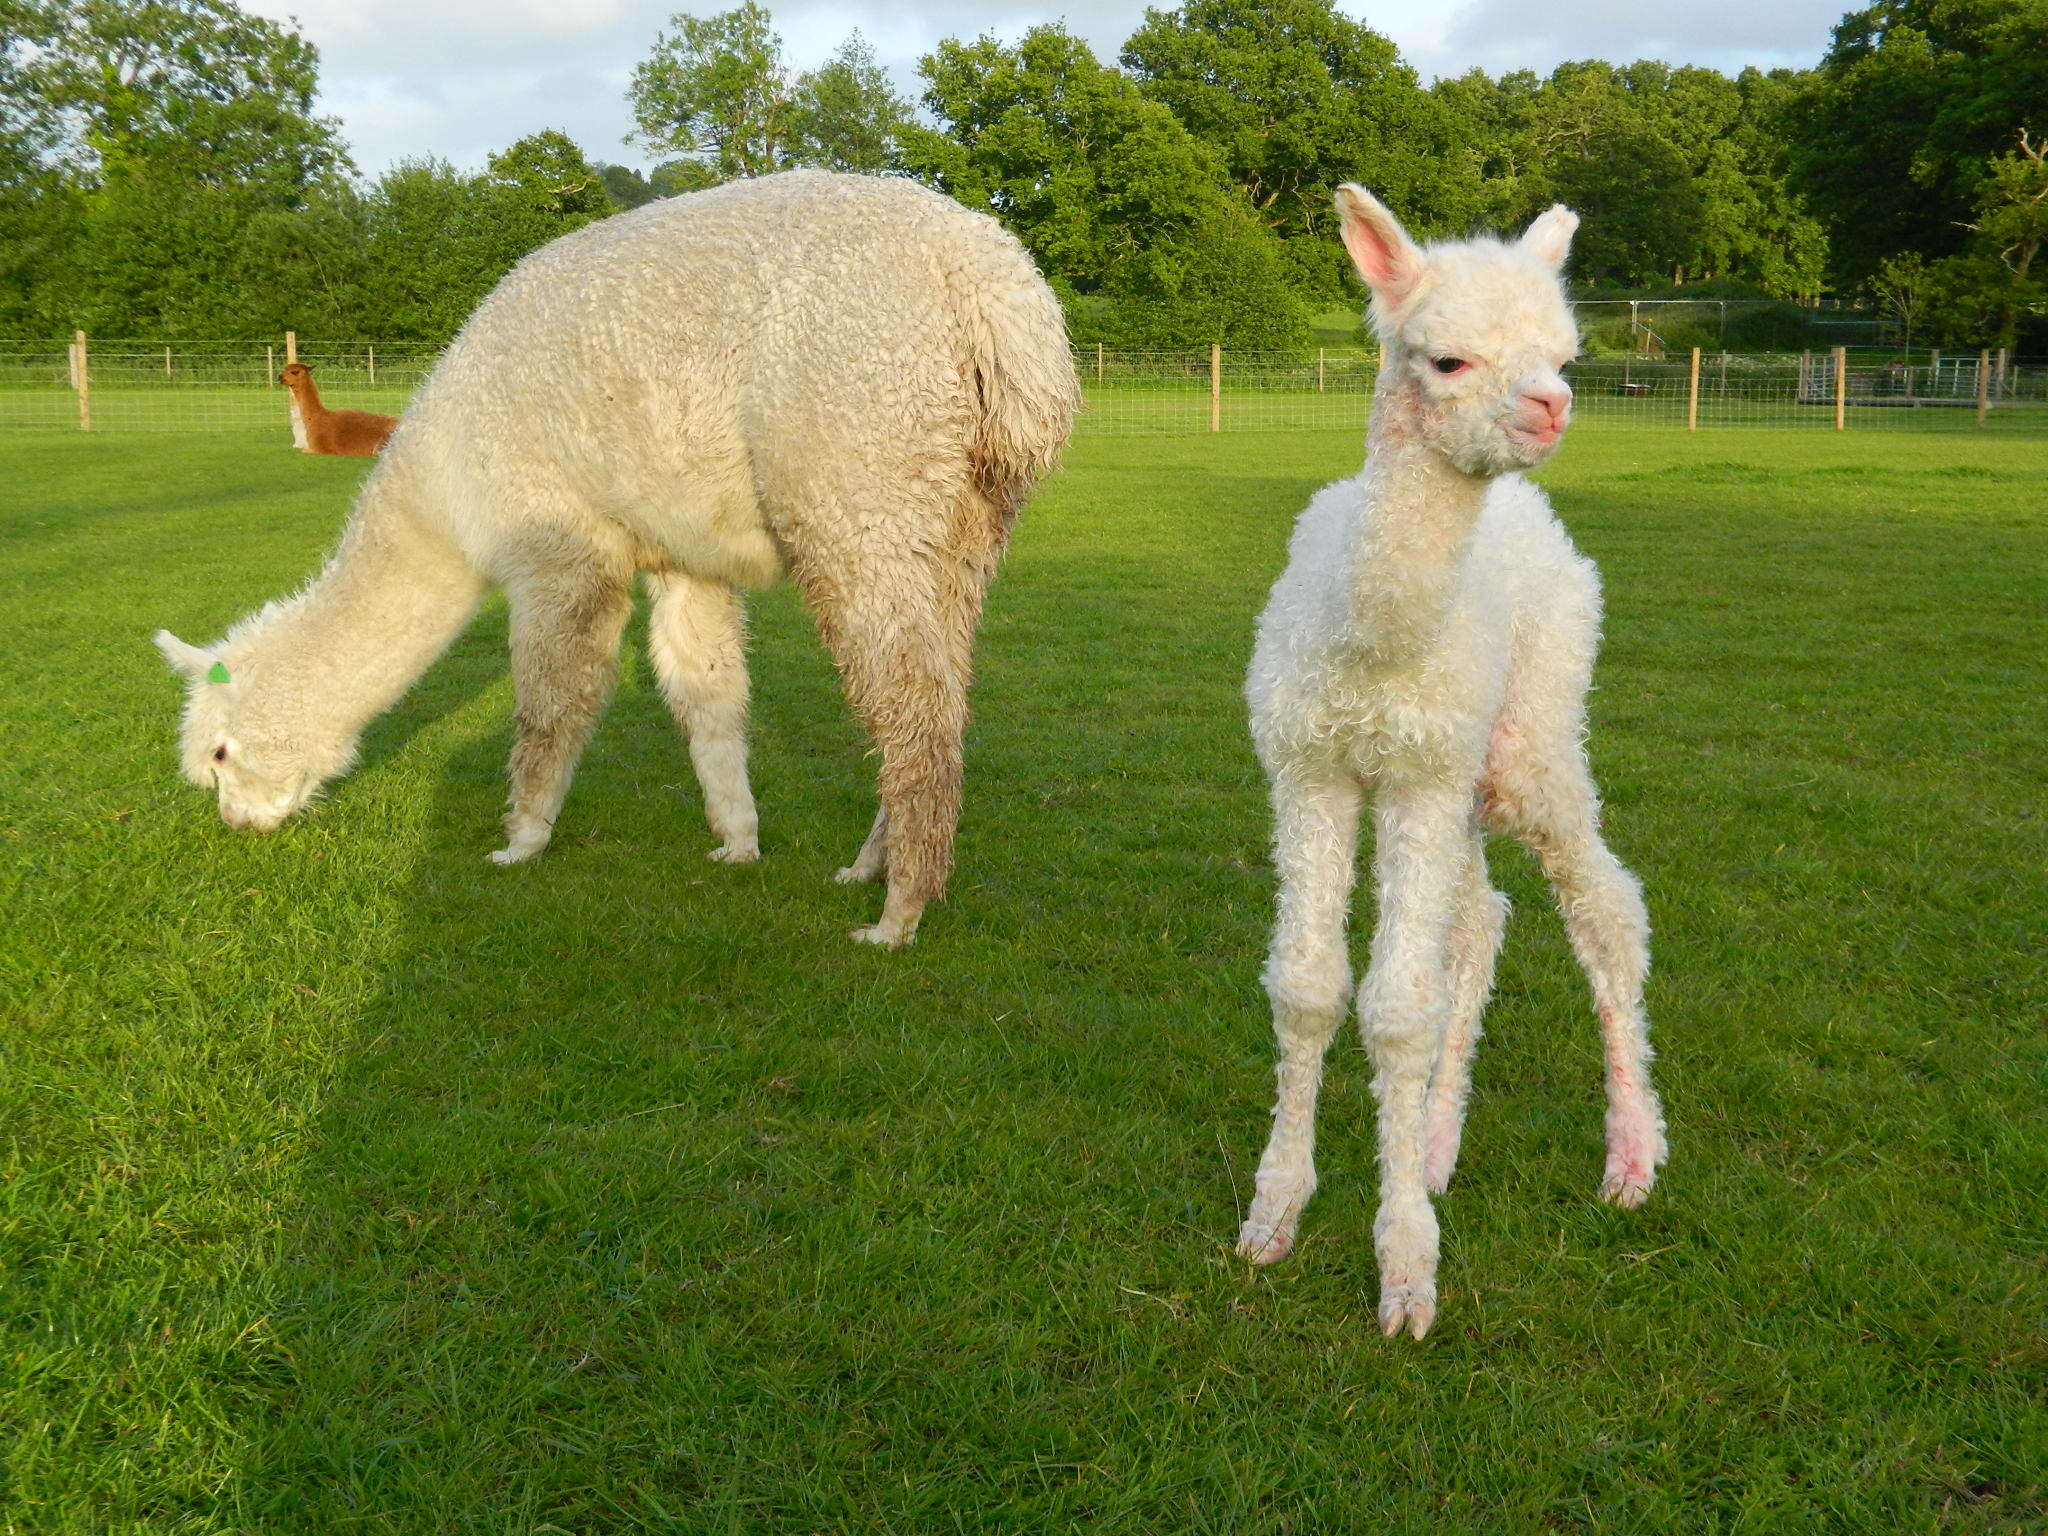alpaca: (153, 165, 1084, 945), (1235, 181, 1667, 1342)
